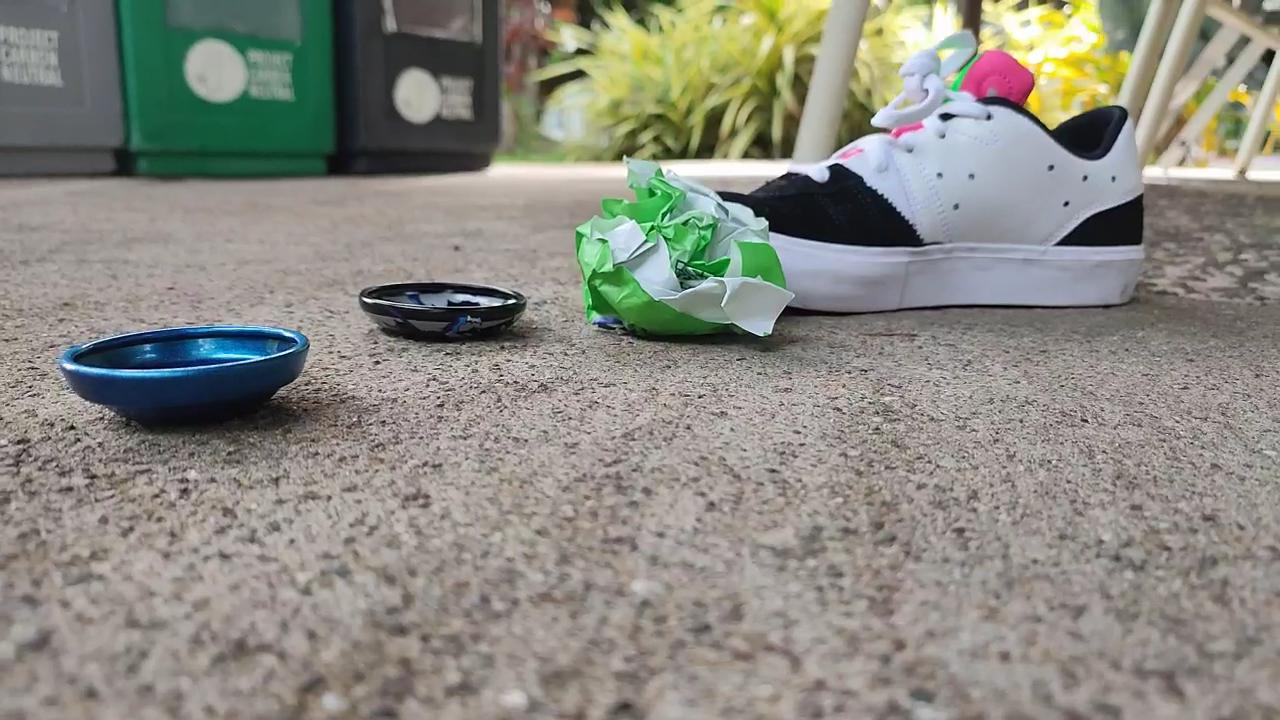Paper: (568, 147, 798, 355)
